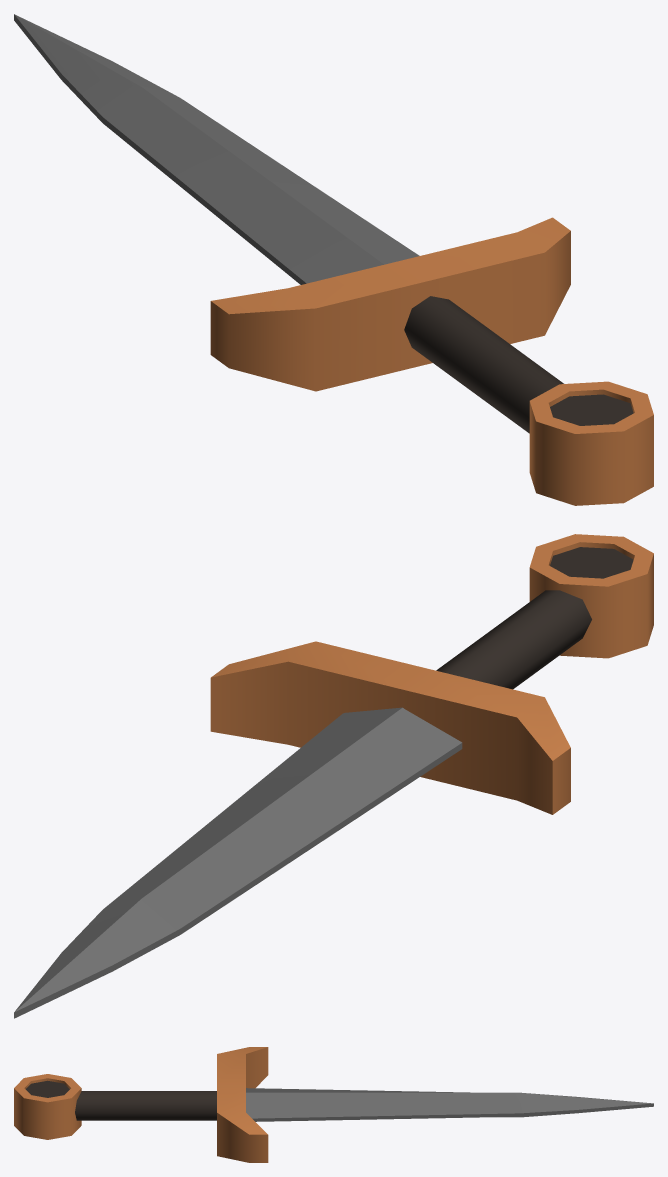
File: Dagger_01.fbx
The picture shows the model from 3 angles, top to bottom: view 1: azimuth 30°, elevation 25°; view 2: azimuth 150°, elevation 25°; view 3: azimuth 270°, elevation 25°; orthographic projection. The views are drawn at different scales.
Visible parts, largest first — view 1: Dagger_01; view 2: Dagger_01; view 3: Dagger_01.
Part boxes in pixels (x1,y1,x2,y2): Dagger_01: (14,14,653,505); Dagger_01: (14,534,653,1018); Dagger_01: (14,1047,653,1162).
Size of the model in its own units: 0.1167 by 0.0271 by 0.3604.
